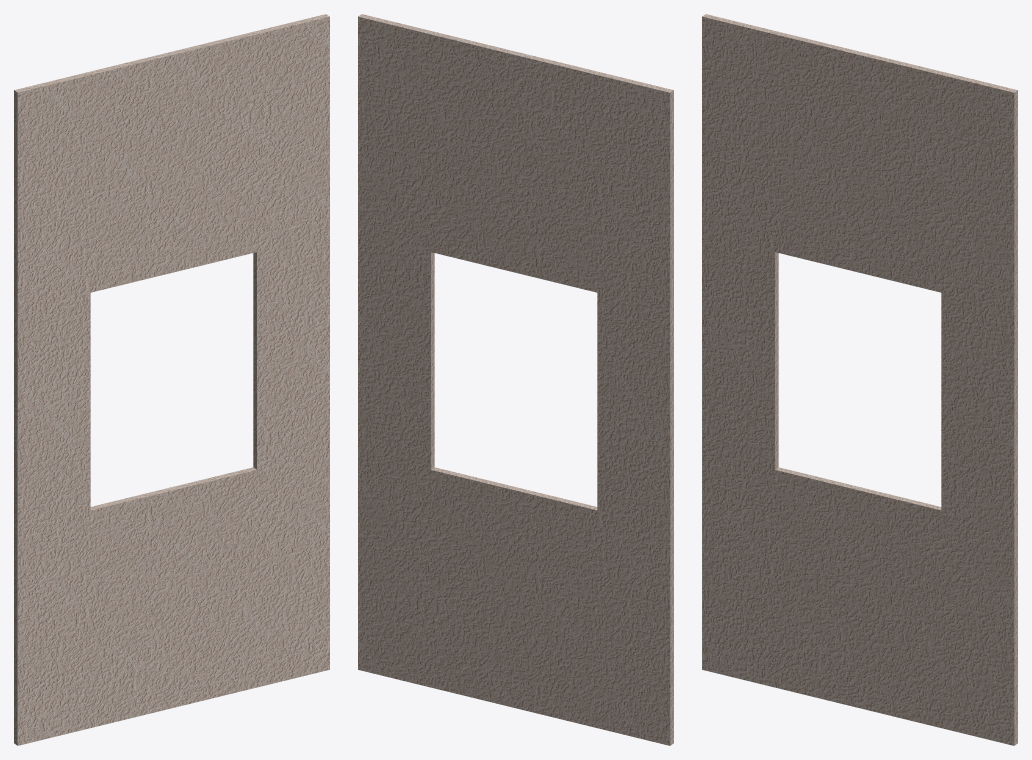
Rendered from subwall window center.FBX.
3 views of the same model, side by side, from view 1: azimuth 30°, elevation 25°; view 2: azimuth 150°, elevation 25°; view 3: azimuth 330°, elevation 25° (orthographic).
Visible parts, largest first — view 1: subwall; view 2: subwall; view 3: subwall.
Part boxes in pixels (x1=…): subwall: x1=14, y1=14, x2=329, y2=745; subwall: x1=358, y1=14, x2=673, y2=745; subwall: x1=702, y1=14, x2=1017, y2=745.
Size of the model in its own units: 59.06 by 118 by 1.18.
1 material, 1 textured.
